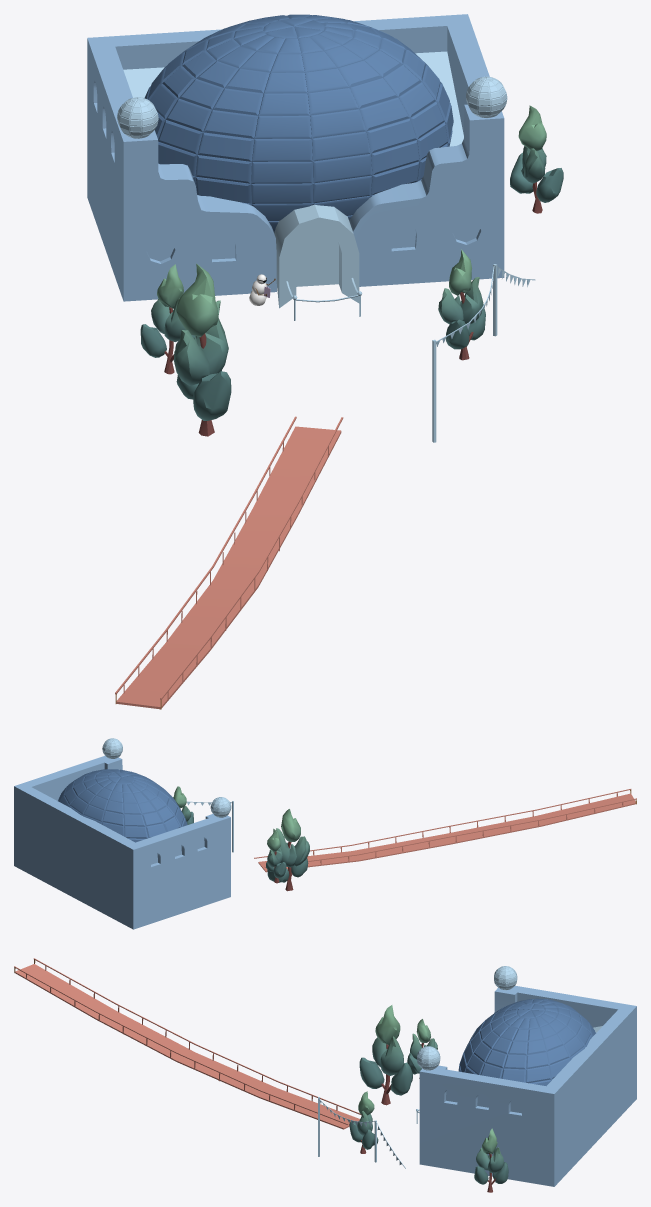
File: Neighborhood_PoomPoomPalaceLocked.fbx
3 renders of one model, top to bottom at view 1: azimuth 30°, elevation 25°; view 2: azimuth 150°, elevation 25°; view 3: azimuth 270°, elevation 25°, orthographic. The views are drawn at different scales.
Visible parts, largest first — view 1: polySurface378, pasted__Object_Bridge, Tree_13, Tree_15, Tree_16, Tree_14; view 2: polySurface378, pasted__Object_Bridge, Tree_13, Tree_14, Tree_15; view 3: polySurface378, pasted__Object_Bridge, Tree_13, Tree_16, Tree_15, Tree_14, Object_Flag_01.
Part boxes in pixels (bbox=[...]): polySurface378: bbox=[87, 14, 507, 308]; pasted__Object_Bridge: bbox=[115, 416, 343, 709]; Tree_13: bbox=[173, 263, 231, 436]; Tree_15: bbox=[438, 249, 485, 360]; Tree_16: bbox=[510, 105, 563, 213]; Tree_14: bbox=[140, 264, 195, 374]; polySurface378: bbox=[14, 738, 231, 929]; pasted__Object_Bridge: bbox=[254, 789, 636, 872]; Tree_13: bbox=[267, 809, 309, 891]; Tree_14: bbox=[266, 828, 286, 883]; Tree_15: bbox=[173, 786, 193, 824]; polySurface378: bbox=[417, 966, 636, 1186]; pasted__Object_Bridge: bbox=[14, 958, 361, 1129]; Tree_13: bbox=[359, 1005, 412, 1105]; Tree_16: bbox=[474, 1128, 508, 1192]; Tree_15: bbox=[349, 1091, 378, 1153]; Tree_14: bbox=[407, 1019, 437, 1078]; Object_Flag_01: bbox=[318, 1098, 405, 1168].
Size of the model in its own units: 3335 by 1049 by 3727.
